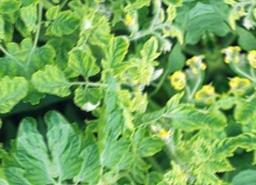Tomato leaf yellow virus: (155, 82, 228, 145), (26, 54, 81, 107), (93, 26, 142, 71), (60, 37, 104, 84), (39, 0, 85, 42), (135, 29, 167, 70), (188, 128, 214, 170), (211, 130, 241, 160), (194, 171, 235, 185), (150, 173, 190, 185), (157, 0, 185, 14), (38, 0, 78, 5)
